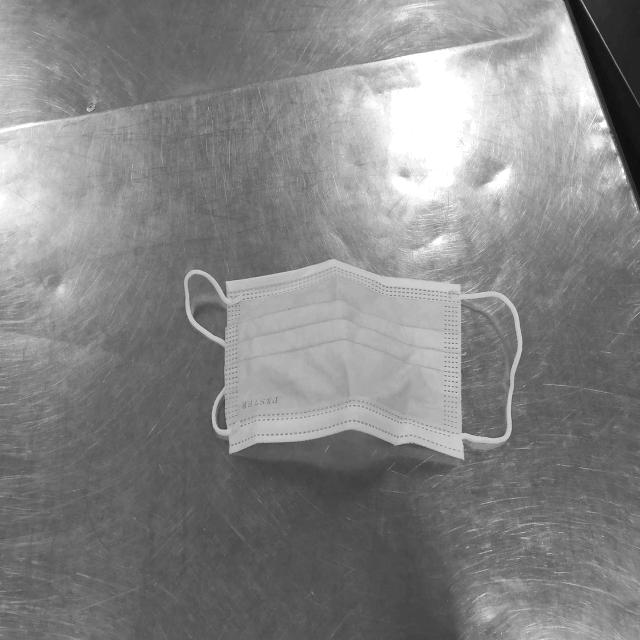Infectious: (182, 257, 523, 462)
